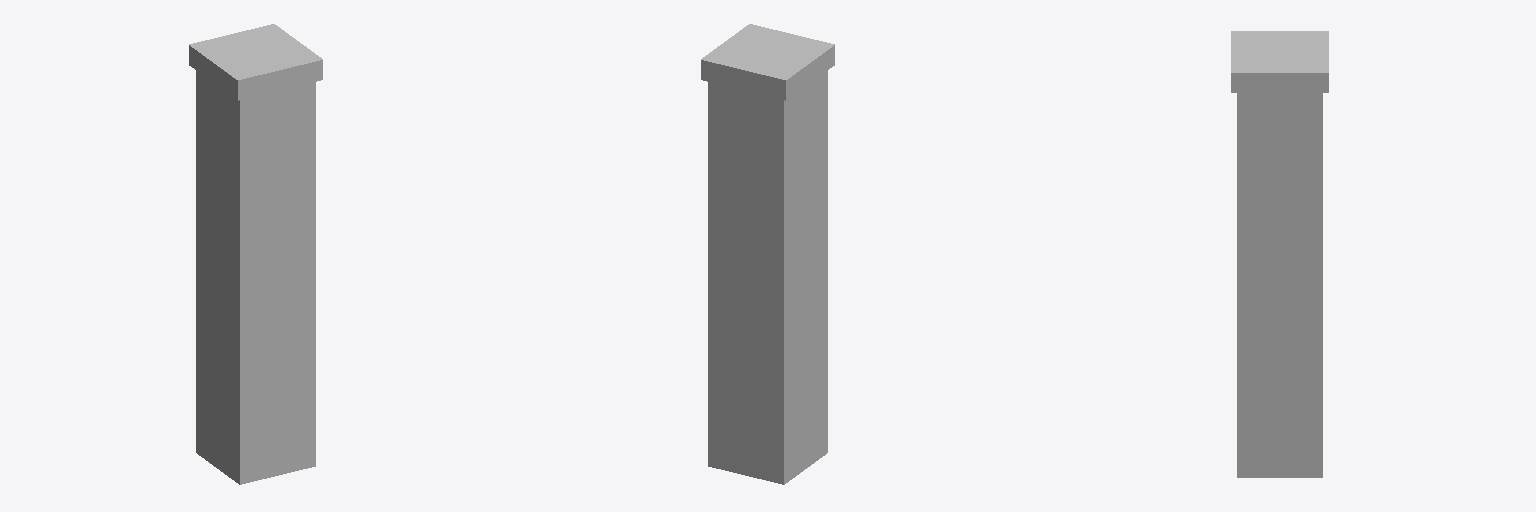
Rendered from Wall_Pillar.obj.
The picture shows the model from 3 angles: view 1: azimuth 30°, elevation 25°; view 2: azimuth 150°, elevation 25°; view 3: azimuth 270°, elevation 25°; orthographic projection.
Parts seen in each view (by area): view 1: Wall_column; view 2: Wall_column; view 3: Wall_column.
Boxes of the visible parts, box(x1,y1,x2,y2) form: Wall_column: box(189, 24, 322, 484); Wall_column: box(701, 24, 834, 484); Wall_column: box(1231, 31, 1328, 477).
Bounding box in the file's own units: 0.7263 × 3.3 × 0.7198.